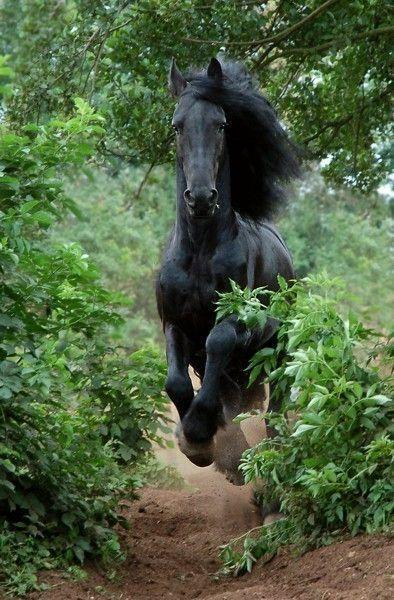horse: (153, 55, 308, 480)
